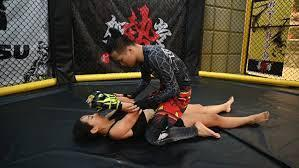Fall-Detected: (61, 91, 278, 141)
